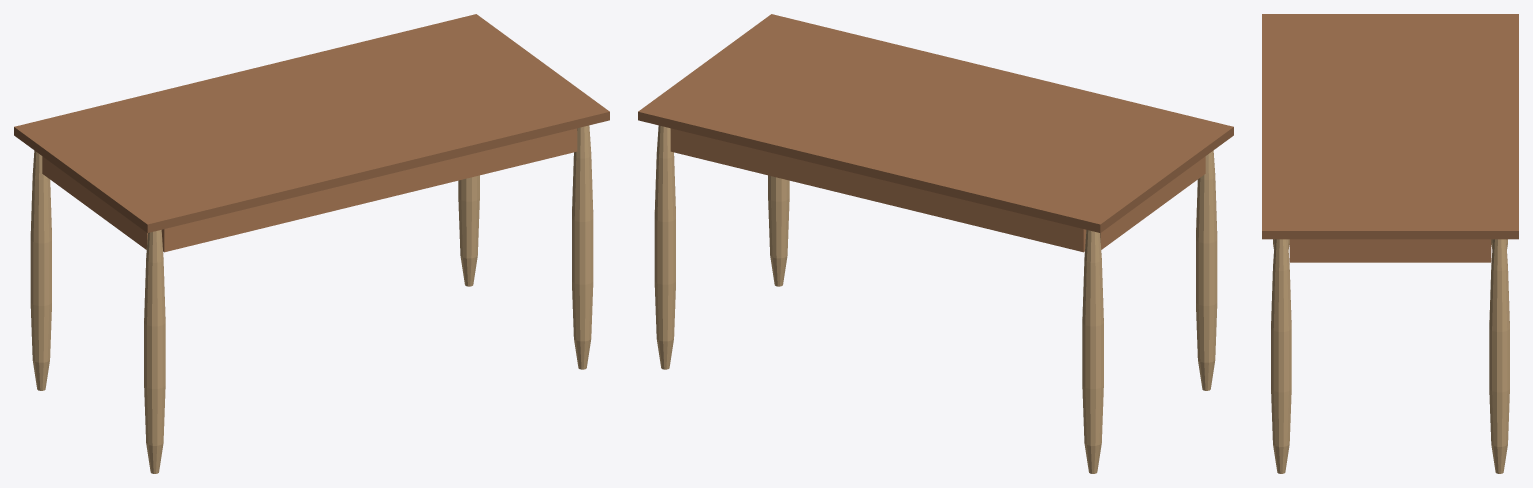
The model's file is CAL-DSK-wide.glb.
3 renders of one model, left to right at view 1: azimuth 30°, elevation 25°; view 2: azimuth 150°, elevation 25°; view 3: azimuth 270°, elevation 25°, orthographic. The views are drawn at different scales.
Parts seen in each view (by area): view 1: top:pbr, apron-f:pbr, leg-fl:pbr, leg-fr:pbr, leg-bl:pbr, leg-br:pbr, apron-l:pbr; view 2: top:pbr, apron-b:pbr, leg-bl:pbr, leg-br:pbr, leg-fl:pbr, leg-fr:pbr, apron-l:pbr; view 3: top:pbr, apron-r:pbr, leg-fr:pbr, leg-br:pbr.
Boxes of the visible parts, x1=… form: top:pbr: x1=14, y1=14, x2=609, y2=232; apron-f:pbr: x1=161, y1=128, x2=577, y2=252; leg-fl:pbr: x1=144, y1=230, x2=165, y2=473; leg-fr:pbr: x1=572, y1=125, x2=593, y2=369; leg-bl:pbr: x1=30, y1=150, x2=51, y2=390; leg-br:pbr: x1=458, y1=175, x2=479, y2=286; apron-l:pbr: x1=42, y1=156, x2=147, y2=249; top:pbr: x1=638, y1=14, x2=1233, y2=232; apron-b:pbr: x1=670, y1=128, x2=1086, y2=252; leg-bl:pbr: x1=1082, y1=230, x2=1103, y2=473; leg-br:pbr: x1=654, y1=125, x2=675, y2=369; leg-fl:pbr: x1=1196, y1=150, x2=1217, y2=390; leg-fr:pbr: x1=768, y1=175, x2=789, y2=286; apron-l:pbr: x1=1100, y1=156, x2=1205, y2=249; top:pbr: x1=1262, y1=14, x2=1518, y2=239; apron-r:pbr: x1=1289, y1=239, x2=1491, y2=262; leg-fr:pbr: x1=1271, y1=239, x2=1291, y2=473; leg-br:pbr: x1=1489, y1=239, x2=1509, y2=473.
Bounding box in the file's own units: 1.4 × 0.75 × 0.7.
